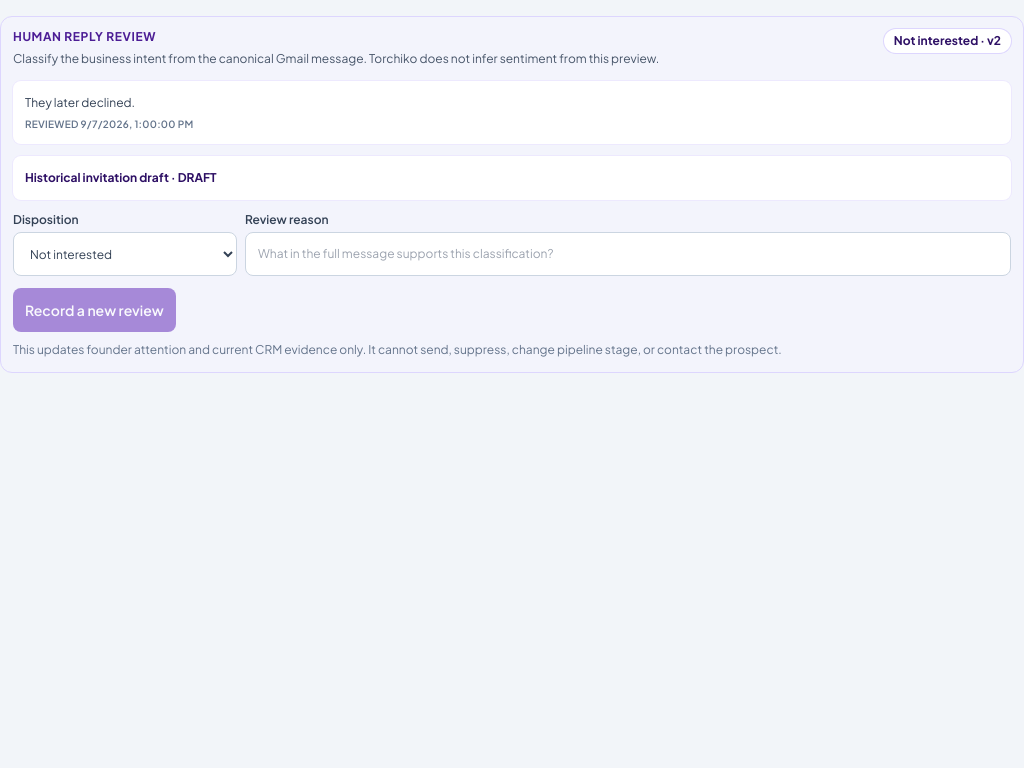
ProspectInboundReplyReviewControl › labels a retained draft as historical when the current review is no longer positive
Click the heading "Historical invitation draft · DRAFT".
click(121, 178)  # box [25,170,217,185]
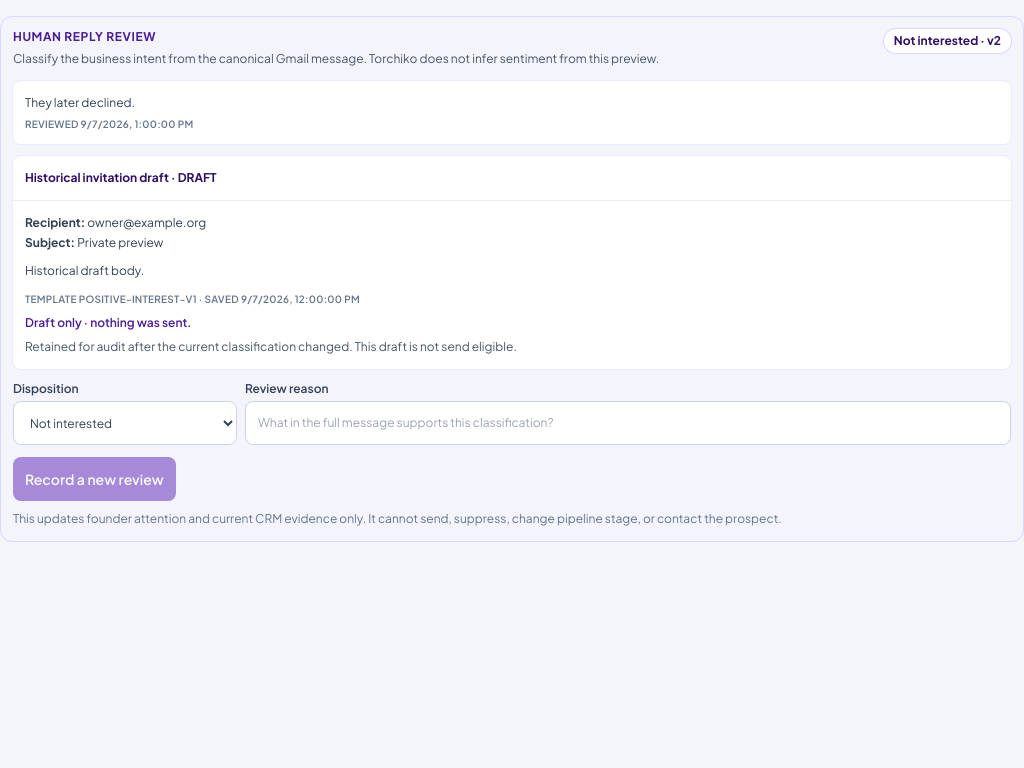
Result: the text "not send eligible" is shown at [25,339,517,354]
